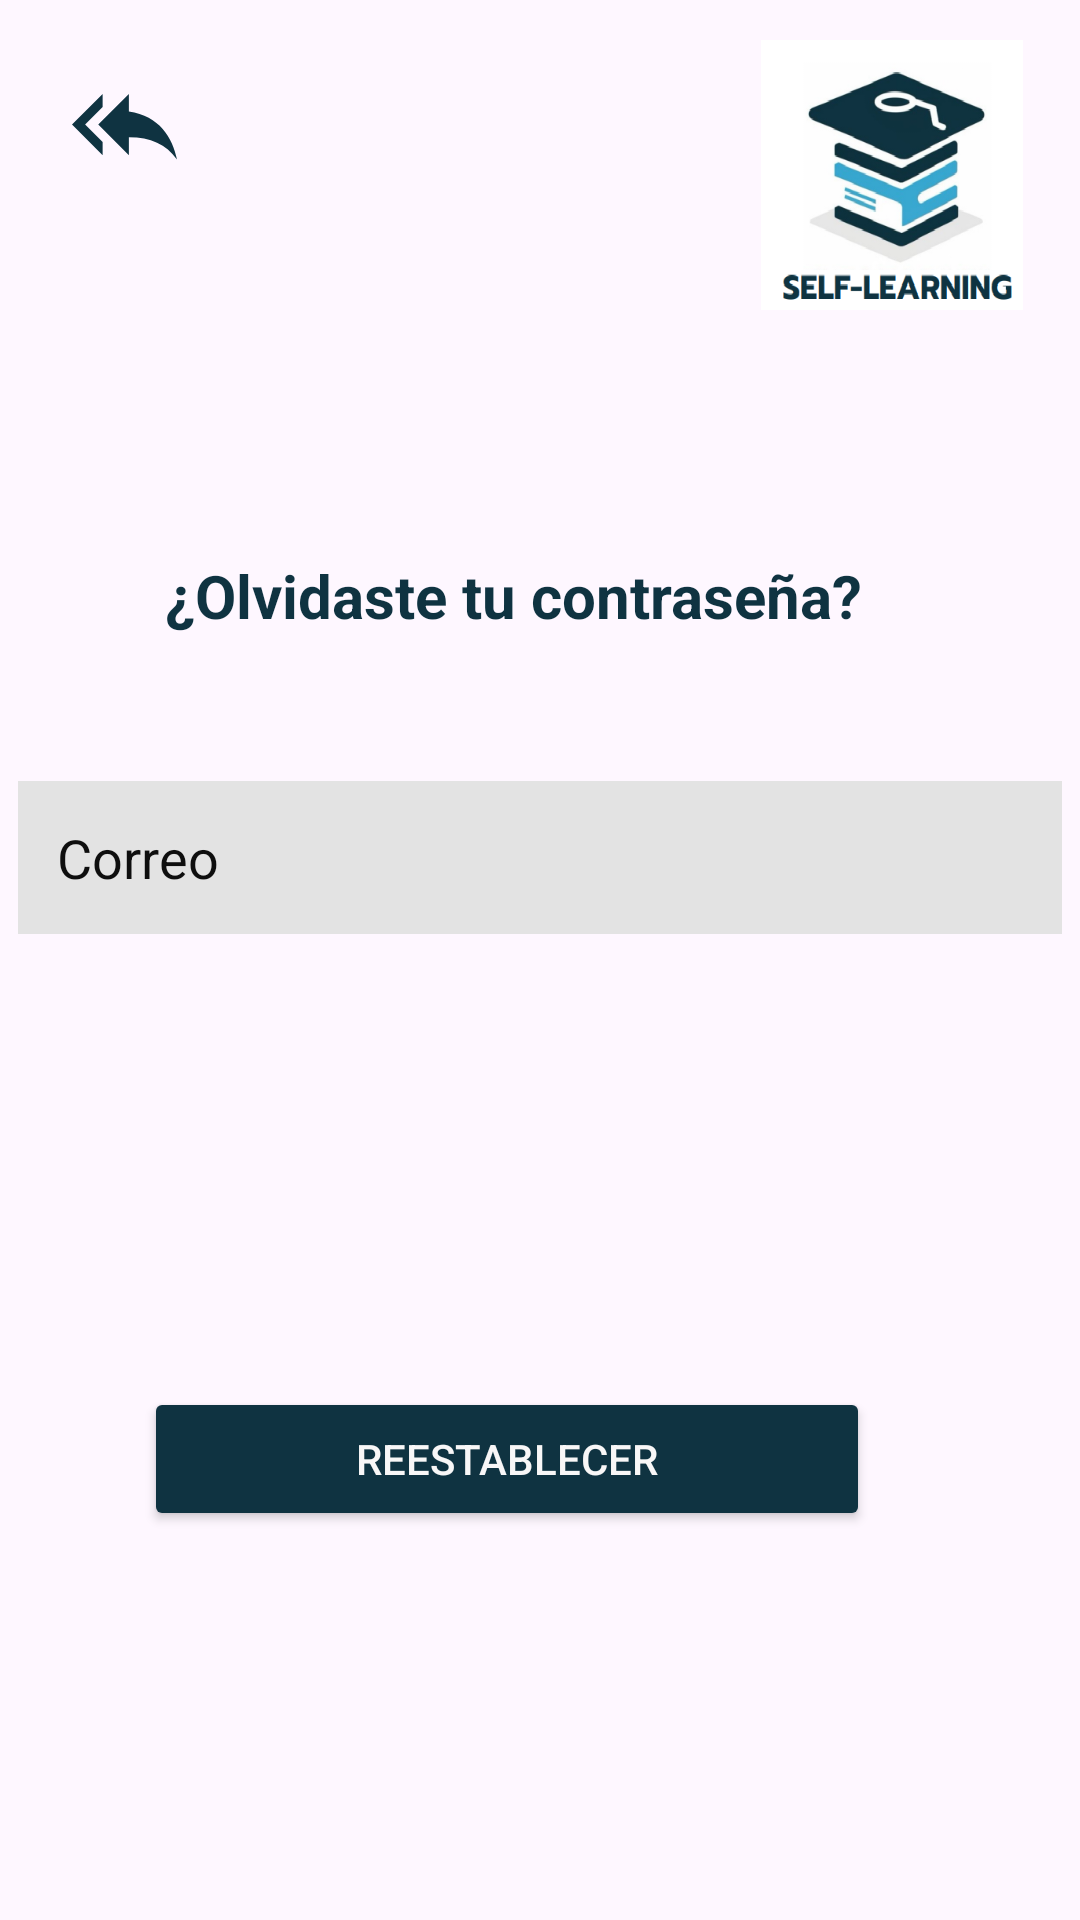

Locate icon controls on the screen. Image size 1080 × 1920, boxes as (x1,y1,x2,y2).
backimage: (72,94,177,159)
